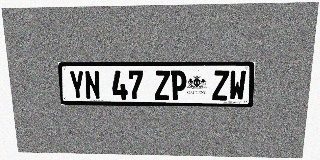4: (111, 70, 128, 100)
7: (127, 70, 143, 100)
N: (84, 70, 101, 99)
P: (171, 70, 186, 100)
W: (228, 70, 246, 100)
Y: (68, 71, 85, 99)
Z: (212, 70, 229, 100), (154, 70, 170, 100)
